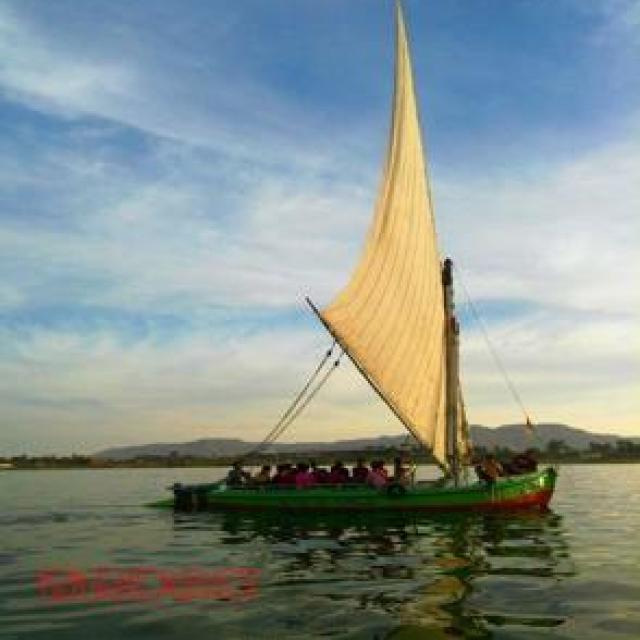sailboat: (164, 0, 562, 520)
